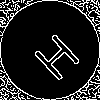H: (25, 25, 83, 83)
